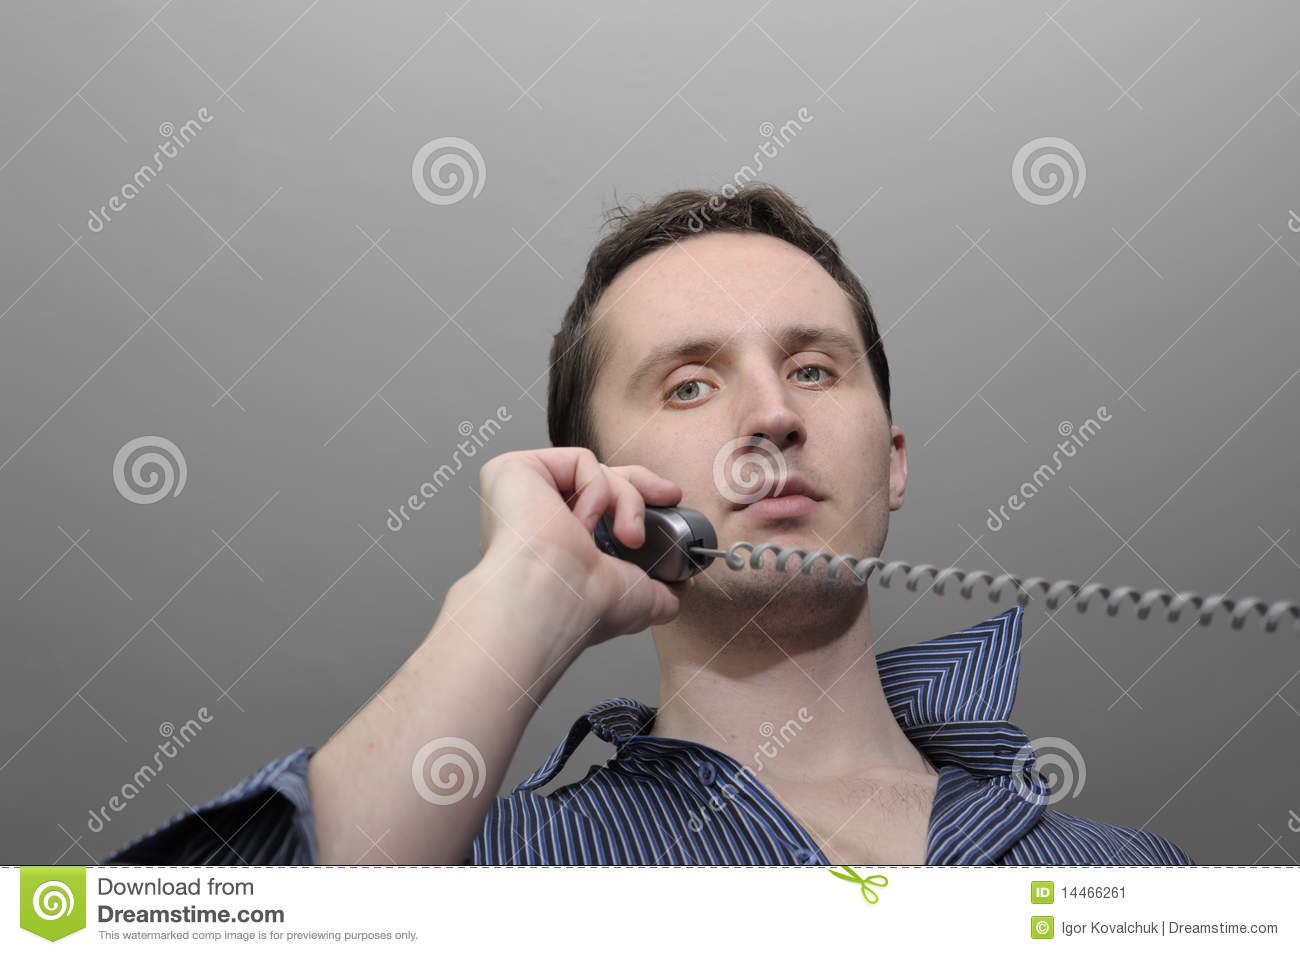talk: (473, 312, 894, 632)
